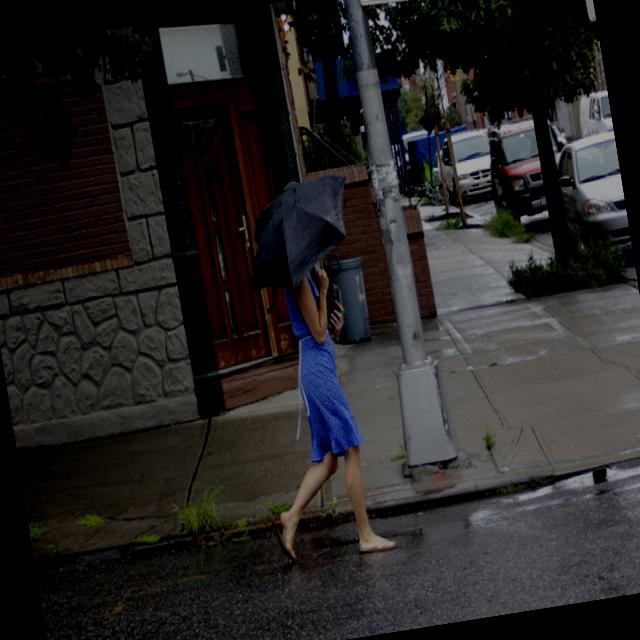Vehicle: (481, 108, 582, 230), (554, 129, 634, 267), (438, 127, 500, 208), (574, 88, 614, 140), (430, 152, 444, 186), (405, 148, 415, 186)
